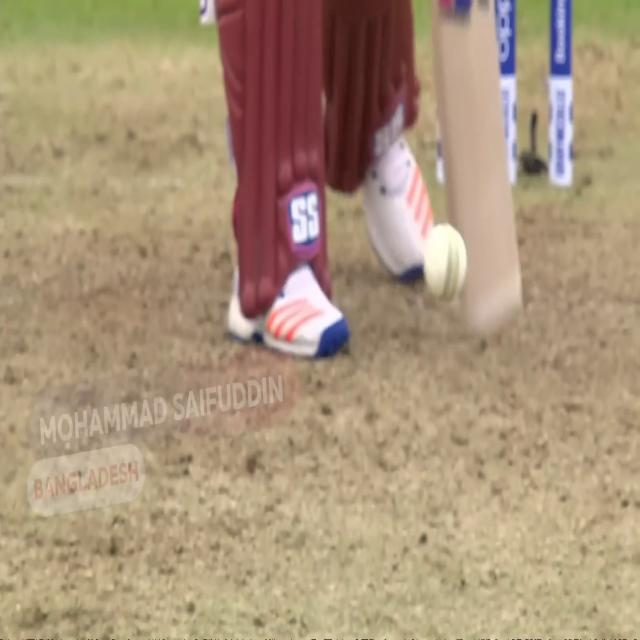ball: (420, 218, 470, 303)
